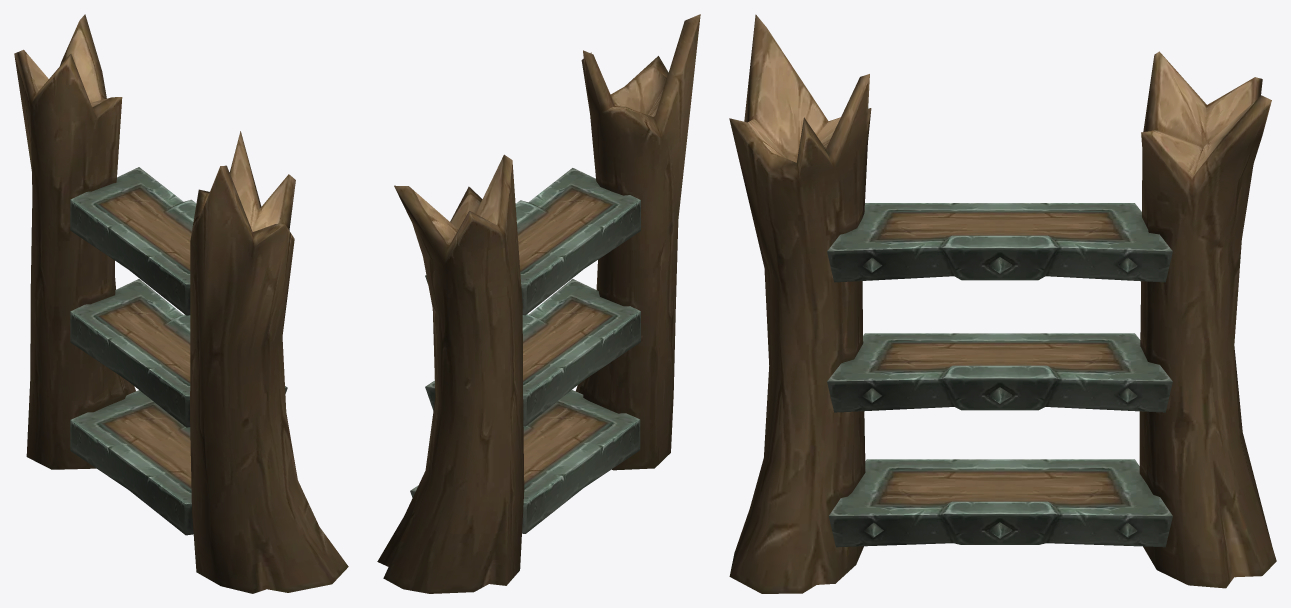
3 views of the same model, side by side, from view 1: azimuth 30°, elevation 25°; view 2: azimuth 150°, elevation 25°; view 3: azimuth 270°, elevation 25° (orthographic). The views are drawn at different scales.
Size of the model in its own units: 1.04 by 3.3 by 3.23.
1 material, 1 textured.
